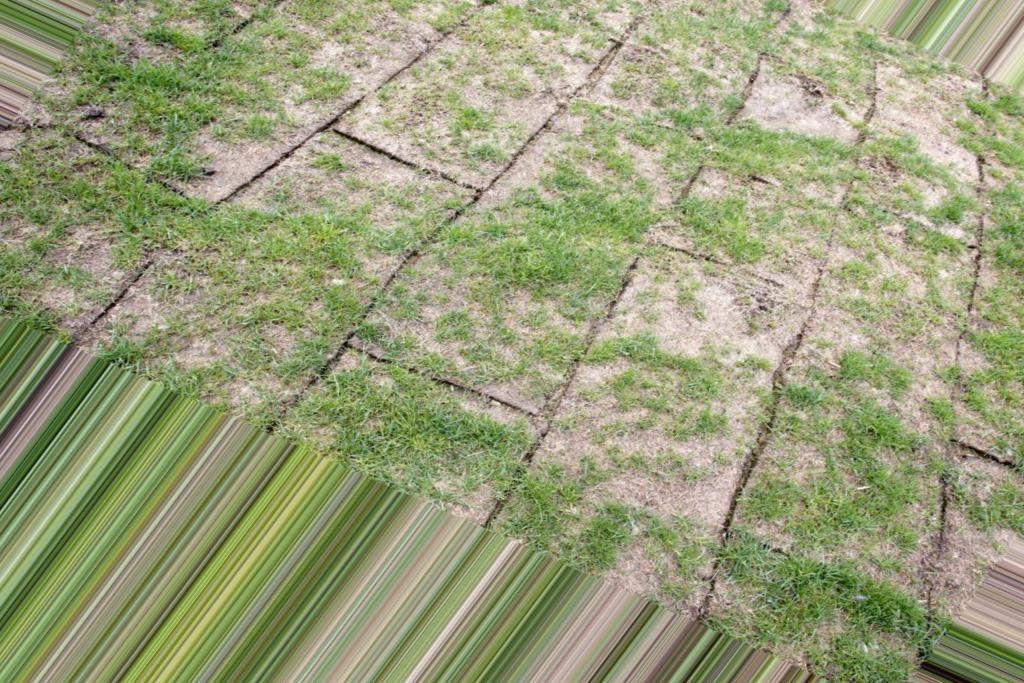patch: (532, 396, 796, 547), (44, 172, 241, 333), (616, 246, 825, 394), (856, 261, 987, 450), (192, 63, 356, 208), (663, 69, 908, 166), (362, 63, 575, 172), (402, 238, 563, 361), (836, 505, 977, 611), (274, 284, 366, 382), (927, 106, 988, 225)
